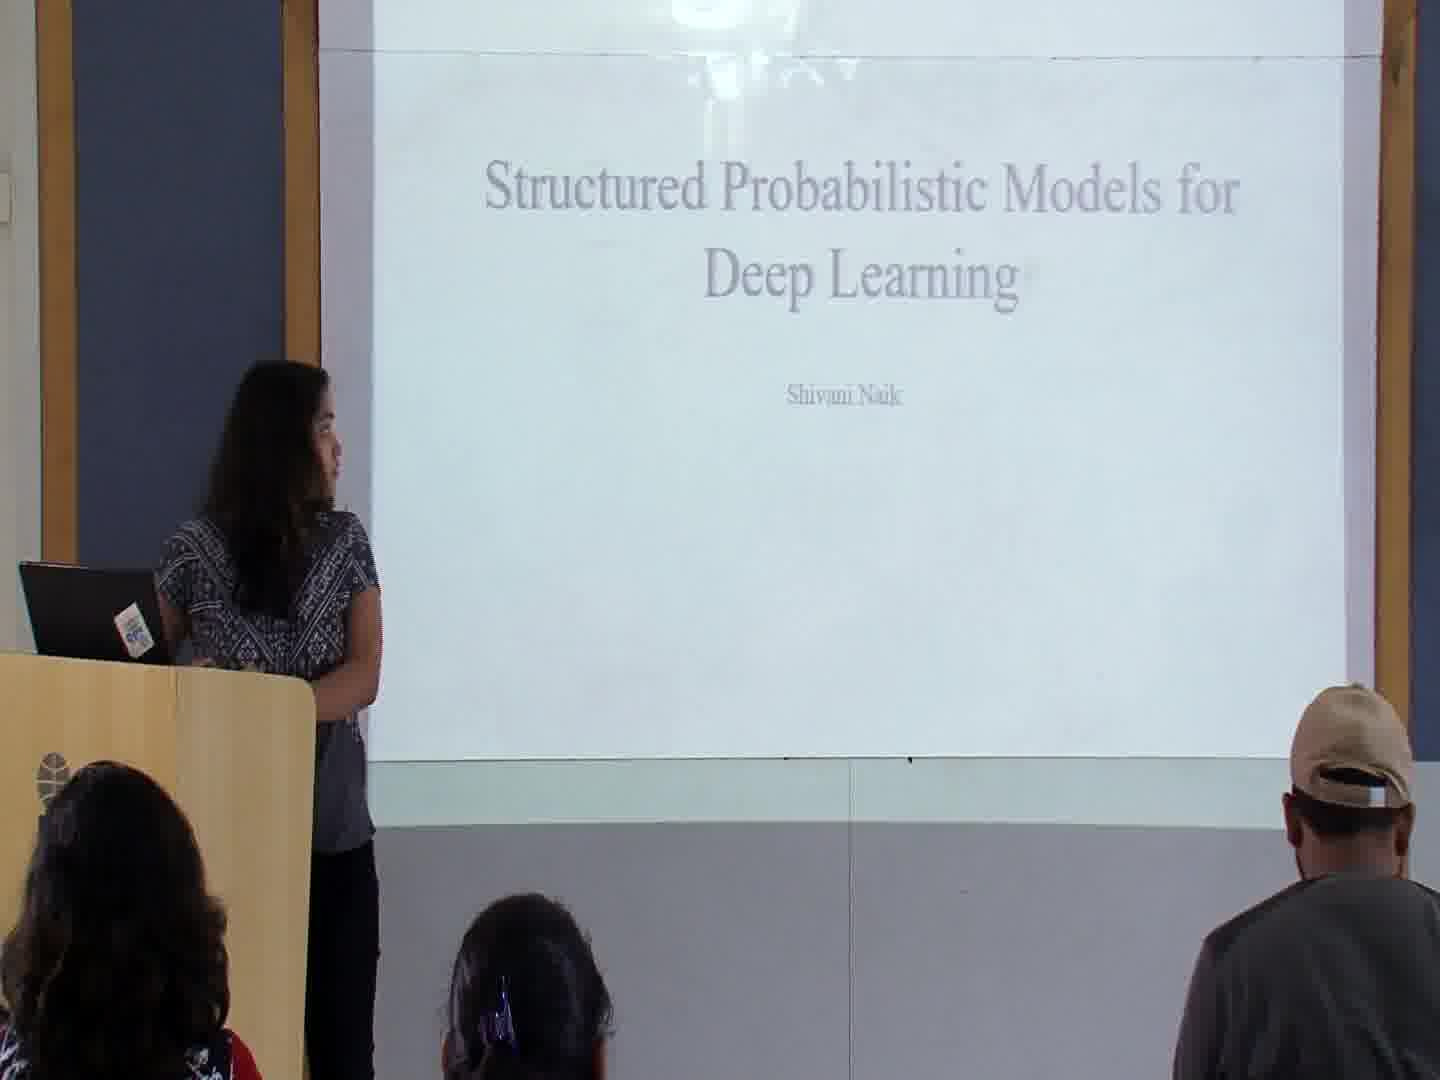slide: (374, 1, 1346, 825)
